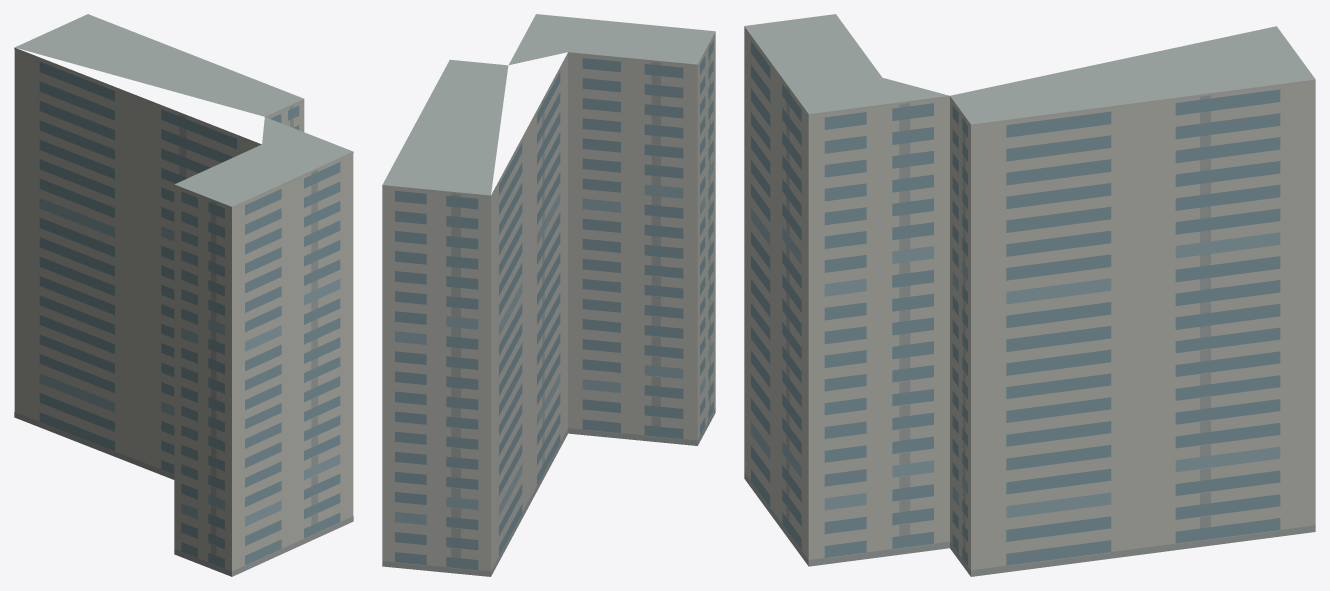
Rendered from residential-4eb202eb-8b07-4199-a1d9-b24a0f4cd31b.glb.
3 renders of one model, left to right at view 1: azimuth 30°, elevation 25°; view 2: azimuth 150°, elevation 25°; view 3: azimuth 270°, elevation 25°, orthographic. The views are drawn at different scales.
Visible parts, largest first — view 1: residential-4eb202eb-8b07-4199-a1d9-b24a0f4cd31b.tmp; view 2: residential-4eb202eb-8b07-4199-a1d9-b24a0f4cd31b.tmp; view 3: residential-4eb202eb-8b07-4199-a1d9-b24a0f4cd31b.tmp.
Boxes of the visible parts, x1,y1,x2,y2 form: residential-4eb202eb-8b07-4199-a1d9-b24a0f4cd31b.tmp: (14, 14, 353, 576); residential-4eb202eb-8b07-4199-a1d9-b24a0f4cd31b.tmp: (382, 14, 715, 576); residential-4eb202eb-8b07-4199-a1d9-b24a0f4cd31b.tmp: (744, 14, 1315, 576).
Size of the model in its own units: 27.26 by 52 by 59.55.
